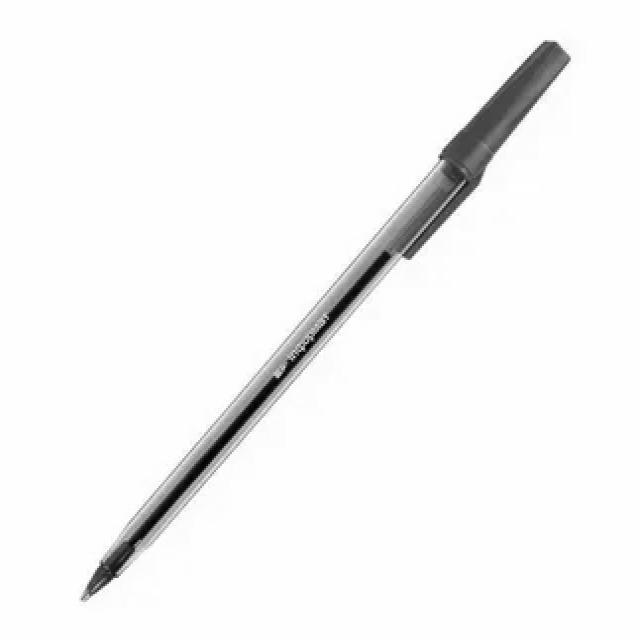pen: (80, 41, 574, 604)
